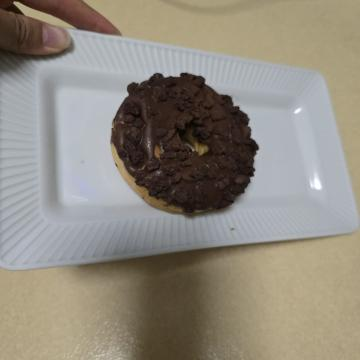doughnut: (60, 90, 227, 256)
